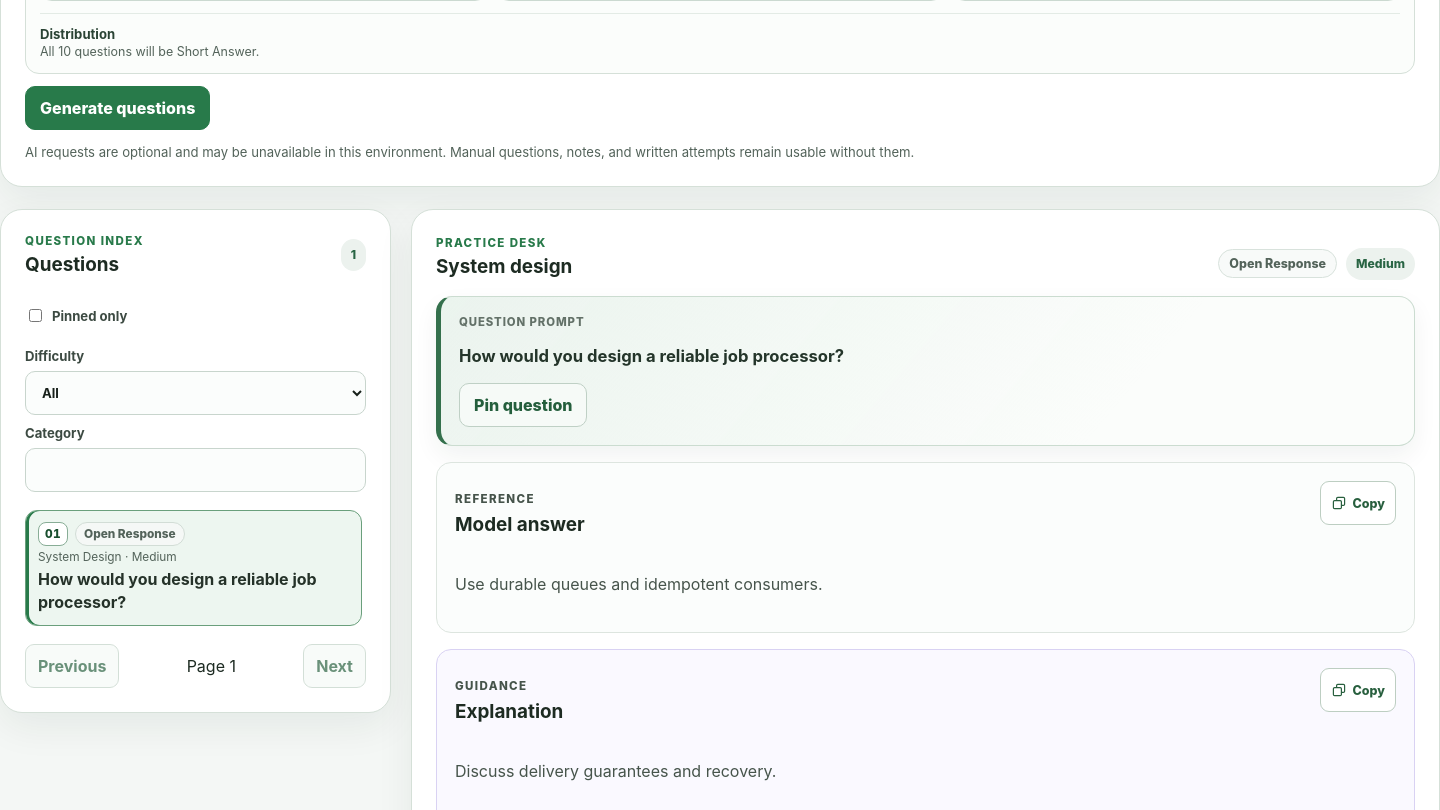
Test: InterviewSessionWorkspace › adopts the canonical pin response and reloads server order
The image size is (1440, 810).
(page scrolled)
Click the button "Pin question" at {"x": 523, "y": 406}, box [459, 384, 588, 428]
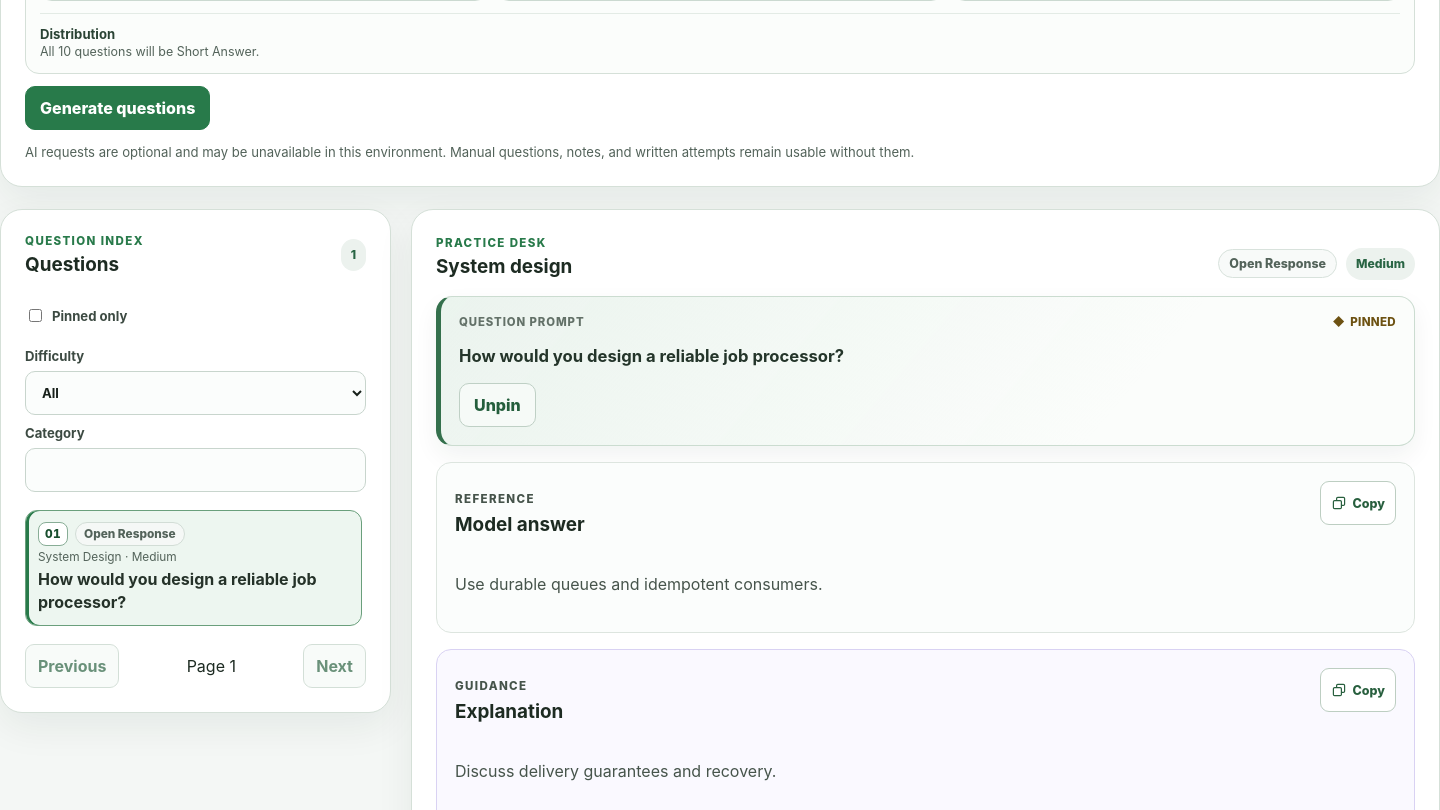
Check: the button "Unpin" is shown, box [459, 384, 536, 428]
